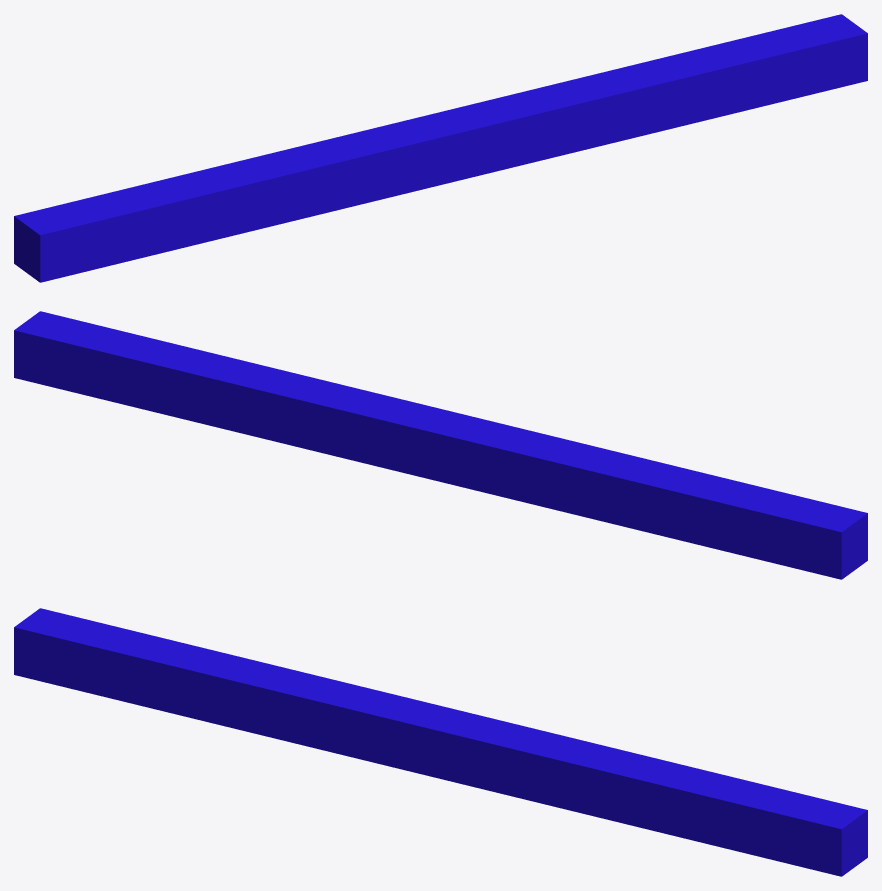
The picture shows the model from 3 angles, top to bottom: view 1: azimuth 30°, elevation 25°; view 2: azimuth 150°, elevation 25°; view 3: azimuth 330°, elevation 25°; orthographic projection.
Parts seen in each view (by area): view 1: Cube; view 2: Cube; view 3: Cube.
Boxes of the visible parts, x1,y1,x2,y2 form: Cube: (14,14,867,282); Cube: (14,311,867,579); Cube: (14,608,867,876).
Size of the model in its own units: 29.13 by 1.6 by 1.6.
